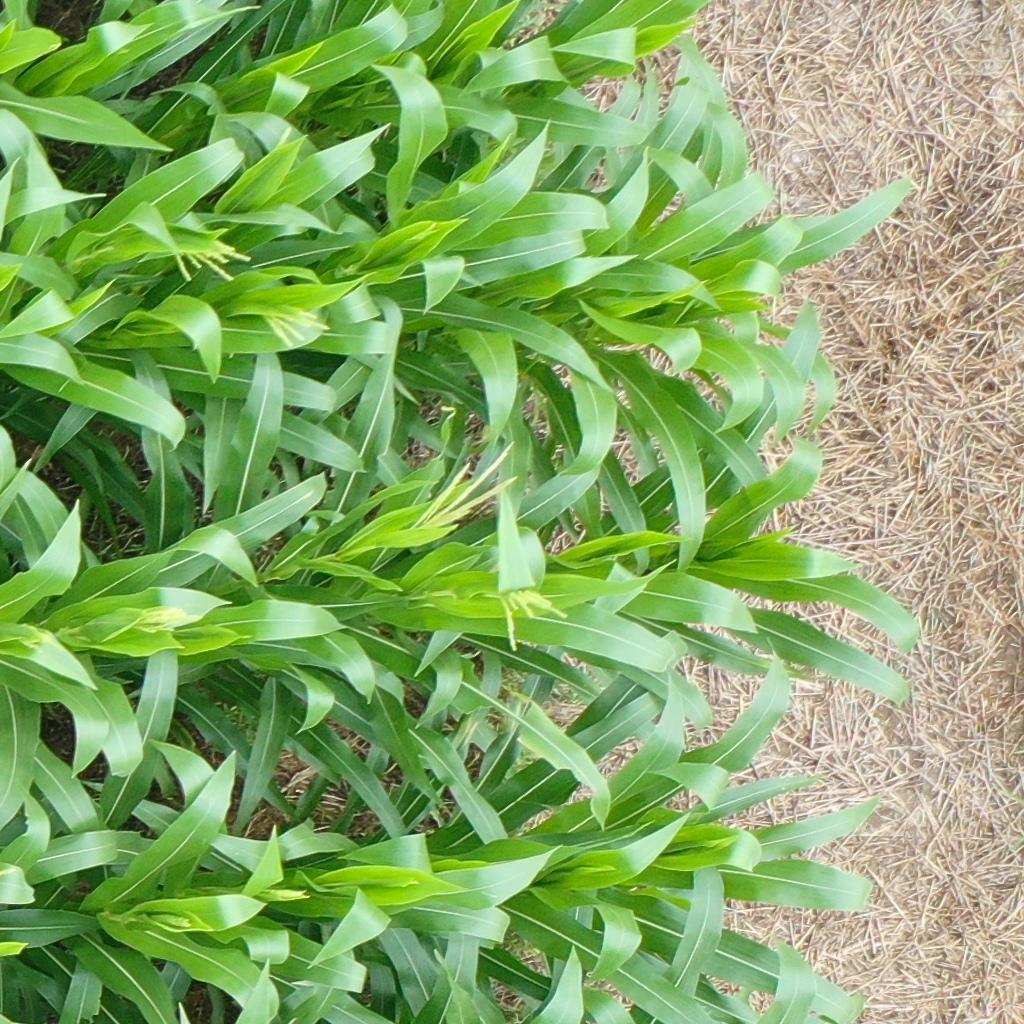Tassel: (415, 437, 519, 528), (483, 584, 572, 651), (169, 227, 254, 284), (257, 300, 333, 349), (134, 605, 203, 634), (15, 623, 58, 650), (146, 911, 196, 931), (270, 887, 306, 899)
